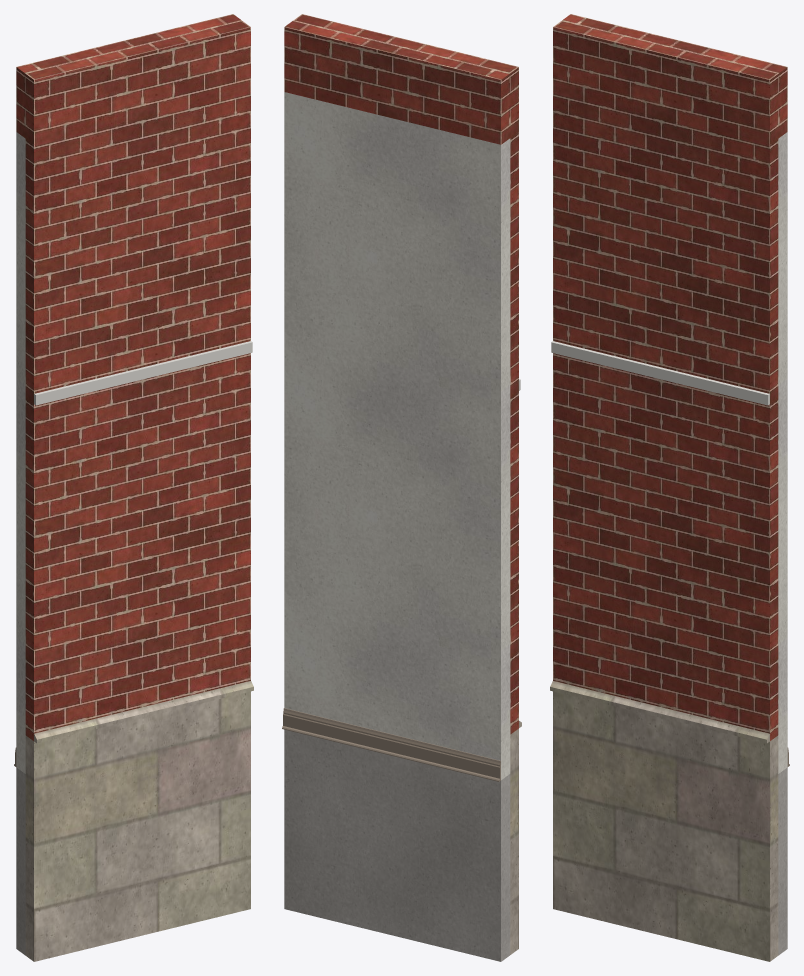
Rendered from b_plain_r.glb.
The picture shows the model from 3 angles, left to right: view 1: azimuth 30°, elevation 25°; view 2: azimuth 150°, elevation 25°; view 3: azimuth 330°, elevation 25°; orthographic projection.
Visible parts, largest first — view 1: b_plain_r_brick, b_plain_r_stone, b_plain_r_plaster, b_plain_r_coping, b_plain_r_concrete; view 2: b_plain_r_plaster, b_plain_r_concrete, b_plain_r_brick, molduras, b_plain_r_stone; view 3: b_plain_r_brick, b_plain_r_stone, b_plain_r_plaster, b_plain_r_coping, b_plain_r_concrete.
Boxes of the visible parts, bbox=[...] form: b_plain_r_brick: bbox=[16, 14, 250, 740]; b_plain_r_stone: bbox=[25, 681, 253, 961]; b_plain_r_plaster: bbox=[16, 132, 25, 773]; b_plain_r_coping: bbox=[34, 341, 252, 405]; b_plain_r_concrete: bbox=[16, 767, 25, 955]; b_plain_r_plaster: bbox=[284, 92, 510, 779]; b_plain_r_concrete: bbox=[284, 729, 510, 961]; b_plain_r_brick: bbox=[284, 14, 518, 734]; molduras: bbox=[282, 708, 500, 781]; b_plain_r_stone: bbox=[510, 721, 521, 954]; b_plain_r_brick: bbox=[553, 14, 787, 740]; b_plain_r_stone: bbox=[550, 681, 778, 961]; b_plain_r_plaster: bbox=[778, 132, 787, 773]; b_plain_r_coping: bbox=[551, 341, 769, 405]; b_plain_r_concrete: bbox=[778, 767, 787, 955].
Bounding box in the file's own units: 1.75 × 6.8 × 0.32.
6 materials, 4 textured.
